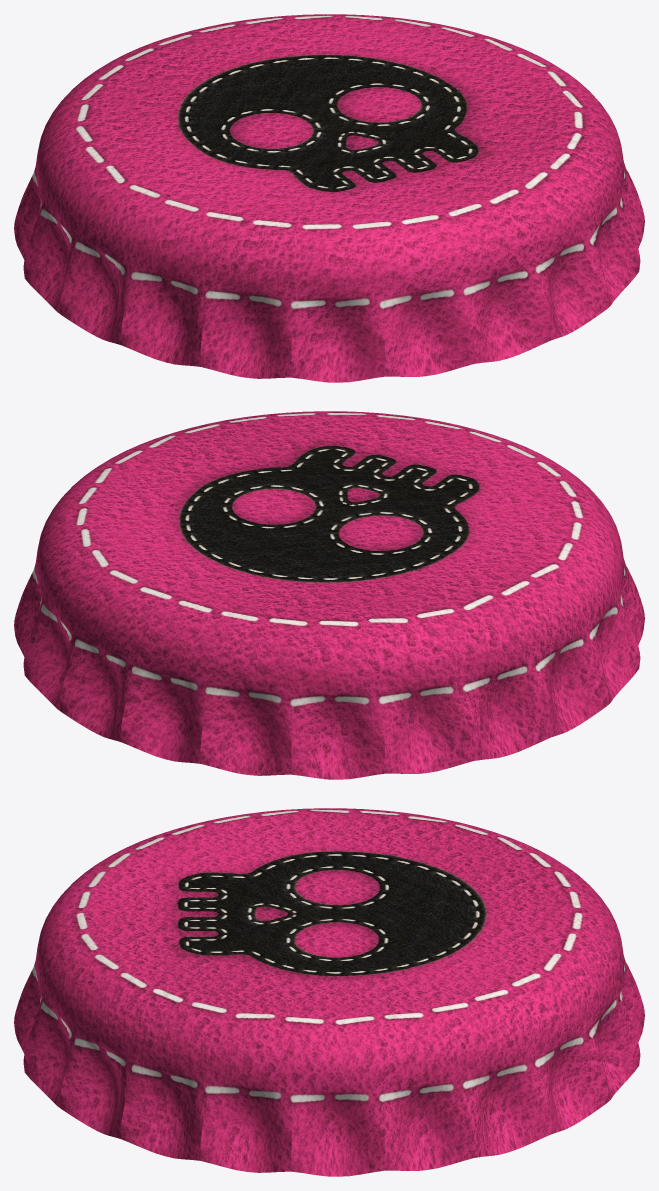
File: czaszka.glb
3 views of the same model, one above another, from view 1: azimuth 30°, elevation 25°; view 2: azimuth 150°, elevation 25°; view 3: azimuth 270°, elevation 25° (orthographic).
Visible parts, largest first — view 1: Kapsel_LOD0_czaszka; view 2: Kapsel_LOD0_czaszka; view 3: Kapsel_LOD0_czaszka.
Boxes of the visible parts, box(x1,y1,x2,y2) form: Kapsel_LOD0_czaszka: box(14, 14, 644, 382); Kapsel_LOD0_czaszka: box(14, 411, 644, 779); Kapsel_LOD0_czaszka: box(14, 808, 644, 1176).
Bounding box in the file's own units: 29.9 × 7 × 29.92.
Materials: 2 (2 with a texture image).
